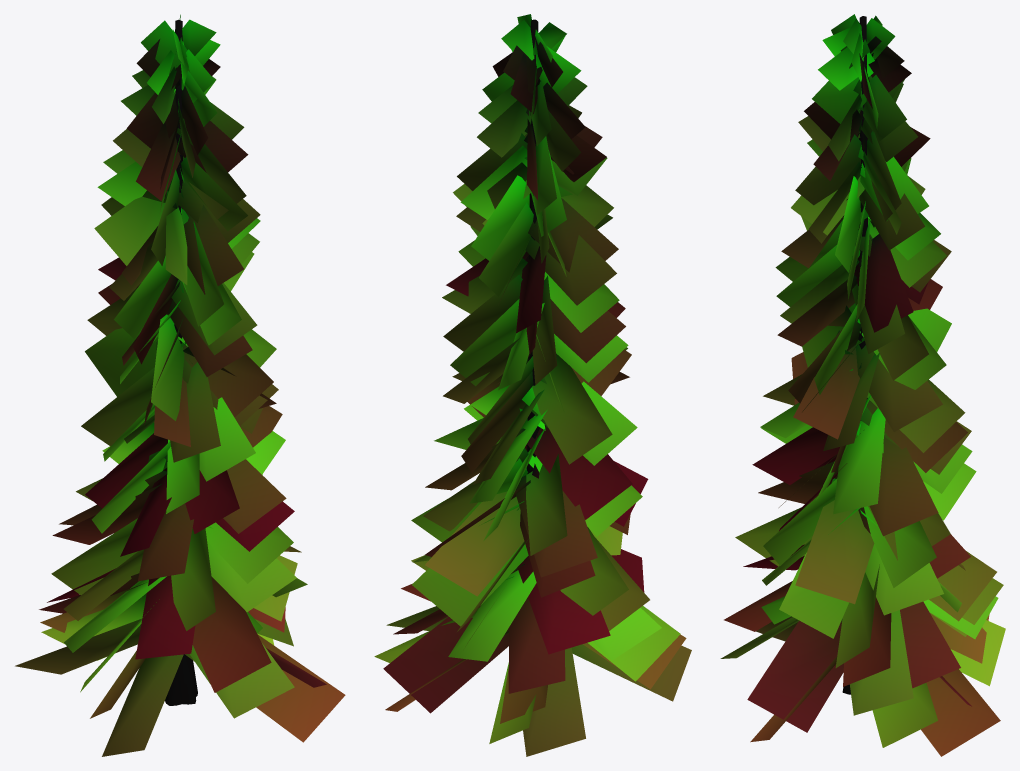
File: M_Pine_2_1.fbx
The picture shows the model from 3 angles, left to right: view 1: azimuth 30°, elevation 25°; view 2: azimuth 150°, elevation 25°; view 3: azimuth 270°, elevation 25°; orthographic projection.
Visible parts, largest first — view 1: Tree_1; view 2: Tree_1; view 3: Tree_1.
Boxes of the visible parts, x1,y1,x2,y2 form: Tree_1: [15, 14, 345, 756]; Tree_1: [374, 14, 691, 756]; Tree_1: [720, 14, 1005, 756].
Bounding box in the file's own units: 1024 × 2778 × 1036.
